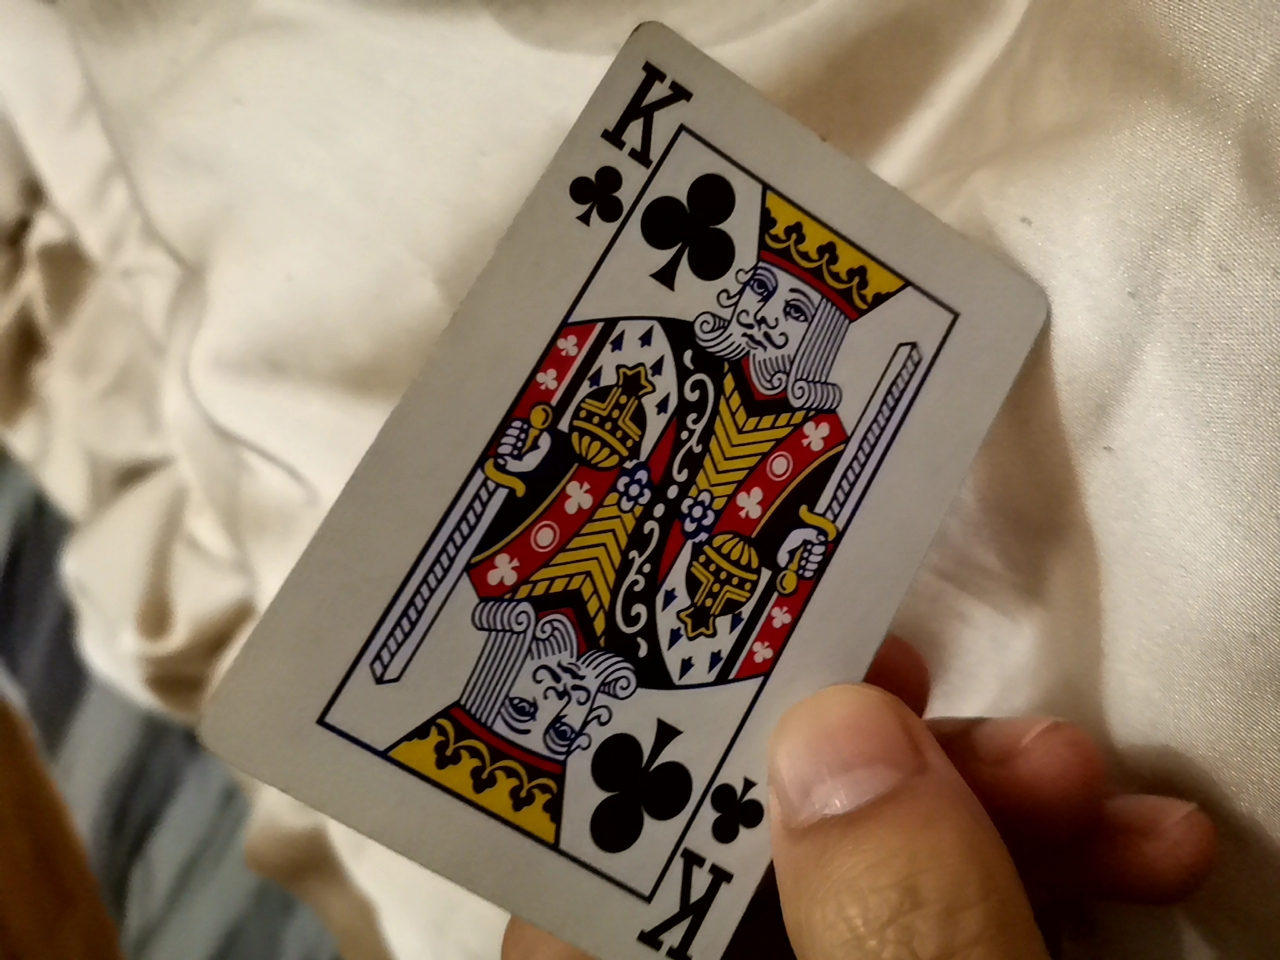mh k: (322, 33, 1050, 925)
